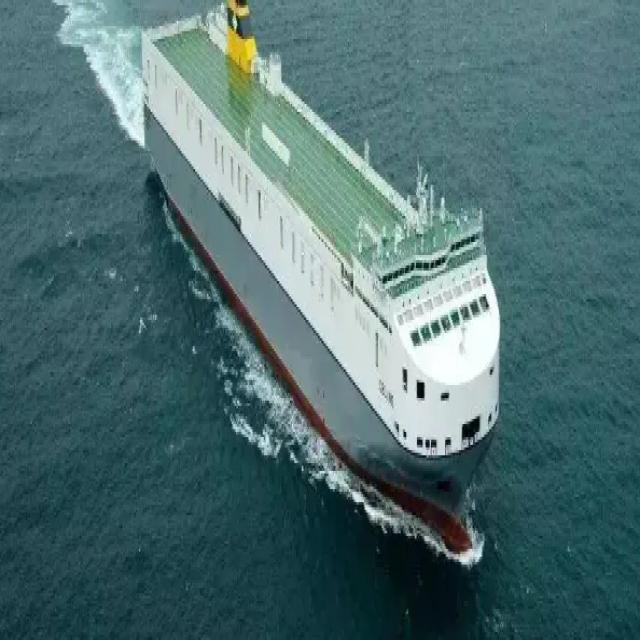cargoship: (136, 0, 509, 559)
